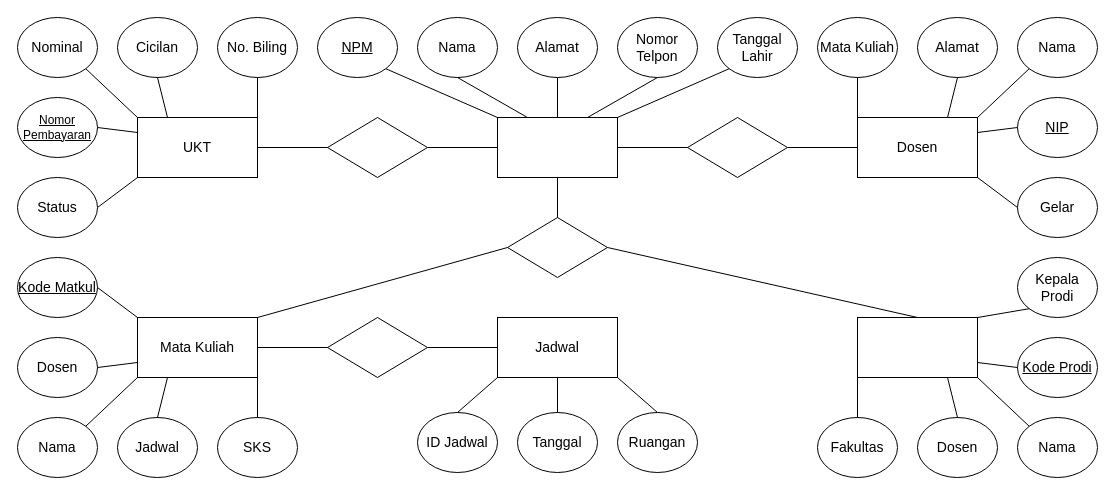
This 1115x495 diagram has some shape labels left out. The centre of each missing label's shape, as x and y in pixels:
"Jurusan" belongs at (x=917, y=347).
"Mahasiswa" belongs at (x=557, y=147).
"Membayar" belongs at (x=377, y=147).
"Membimbing" belongs at (x=737, y=147).
"Mengambil" belongs at (x=557, y=247).
"Mengatur" belongs at (x=377, y=347).
